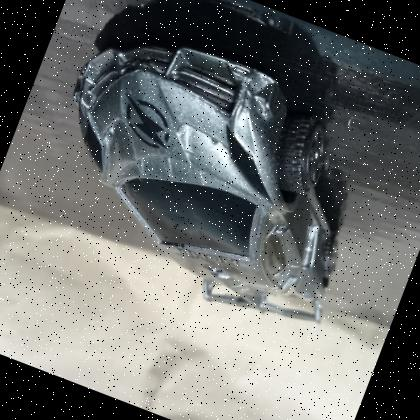Car: (11, 3, 406, 354)
